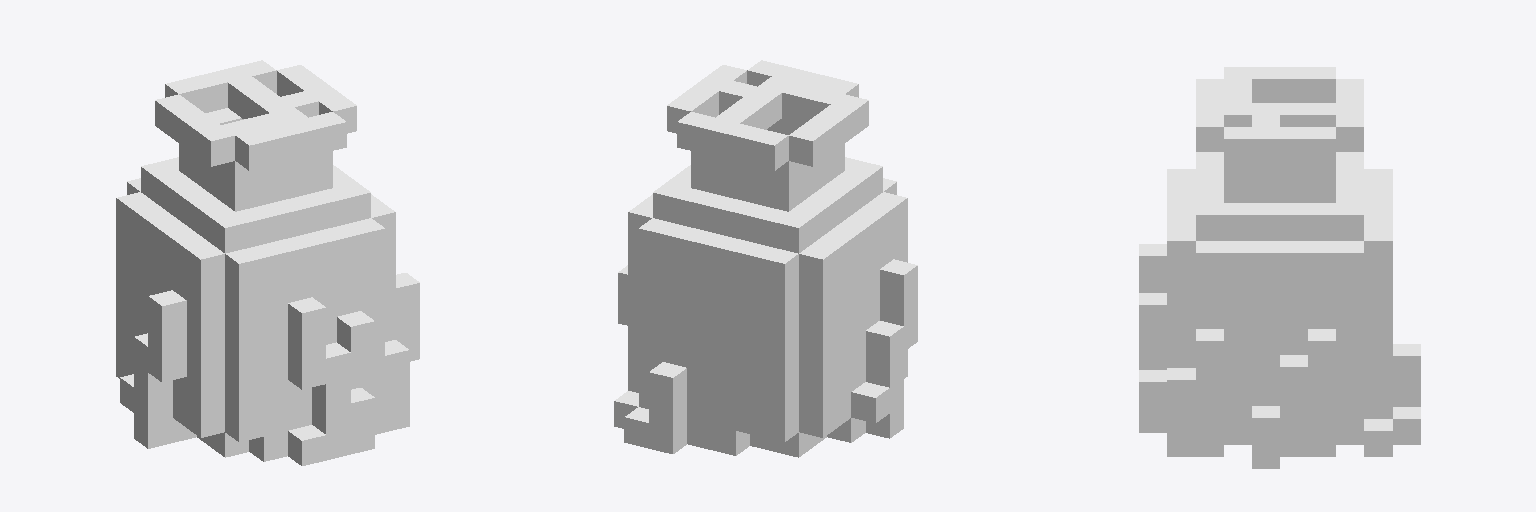
File: Pod_With_Plants.obj
3 renders of one model, left to right at view 1: azimuth 30°, elevation 25°; view 2: azimuth 150°, elevation 25°; view 3: azimuth 270°, elevation 25°, orthographic.
Visible parts, largest first — view 1: object 1; view 2: object 1; view 3: object 1.
Boxes of the visible parts, x1=… form: object 1: x1=116, y1=60, x2=419, y2=465; object 1: x1=614, y1=60, x2=917, y2=457; object 1: x1=1139, y1=67, x2=1420, y2=468.
Size of the model in its own units: 1 by 1.2 by 1.